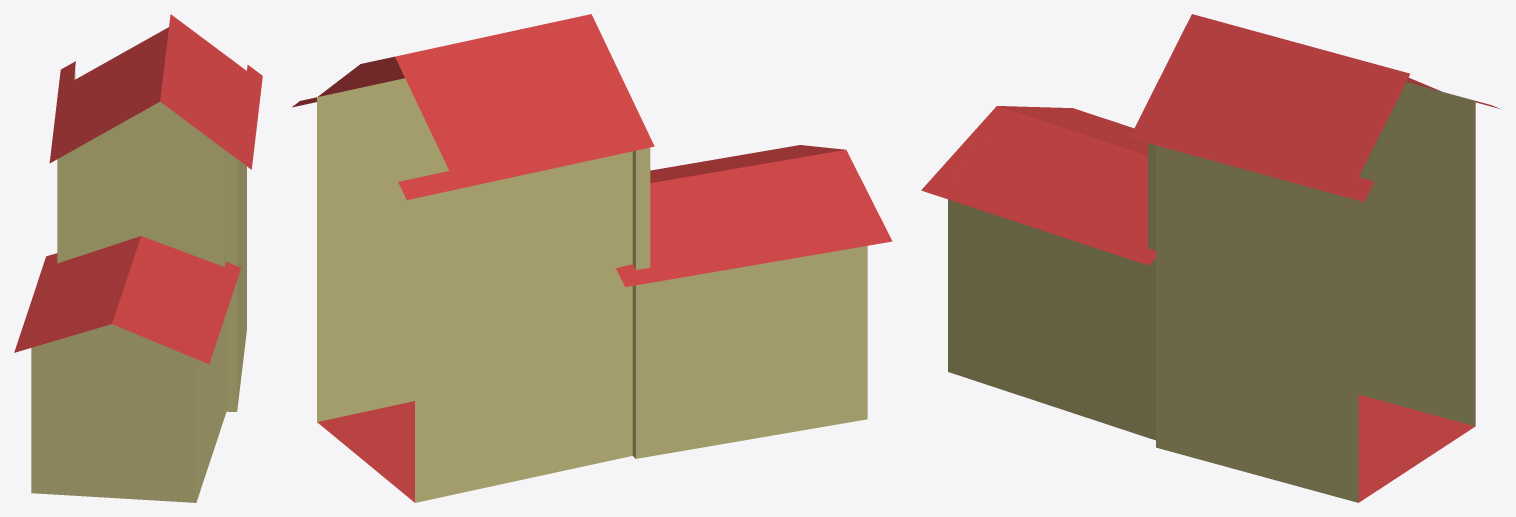
3 renders of one model, left to right at view 1: azimuth 30°, elevation 25°; view 2: azimuth 150°, elevation 25°; view 3: azimuth 270°, elevation 25°, orthographic. The views are drawn at different scales.
Size of the model in its own units: 13.8 by 15.17 by 11.39.
